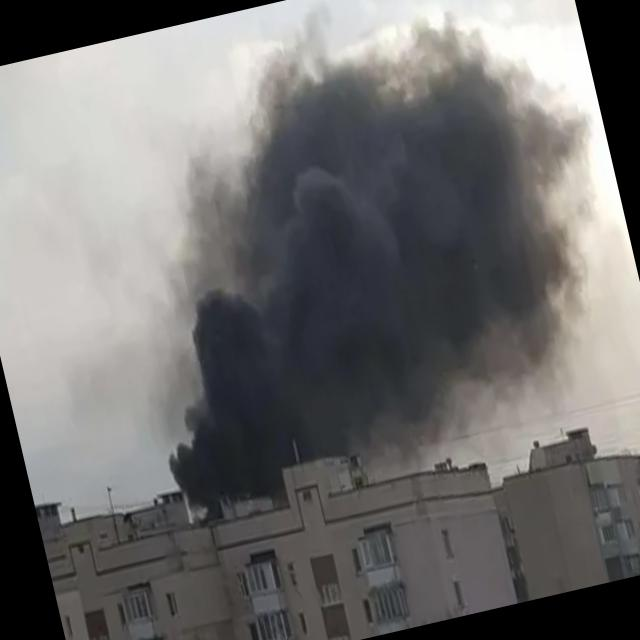Smoke: (83, 0, 640, 509)
